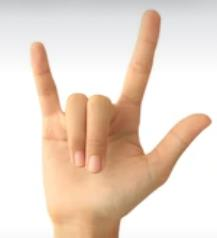back: (25, 7, 214, 218)
